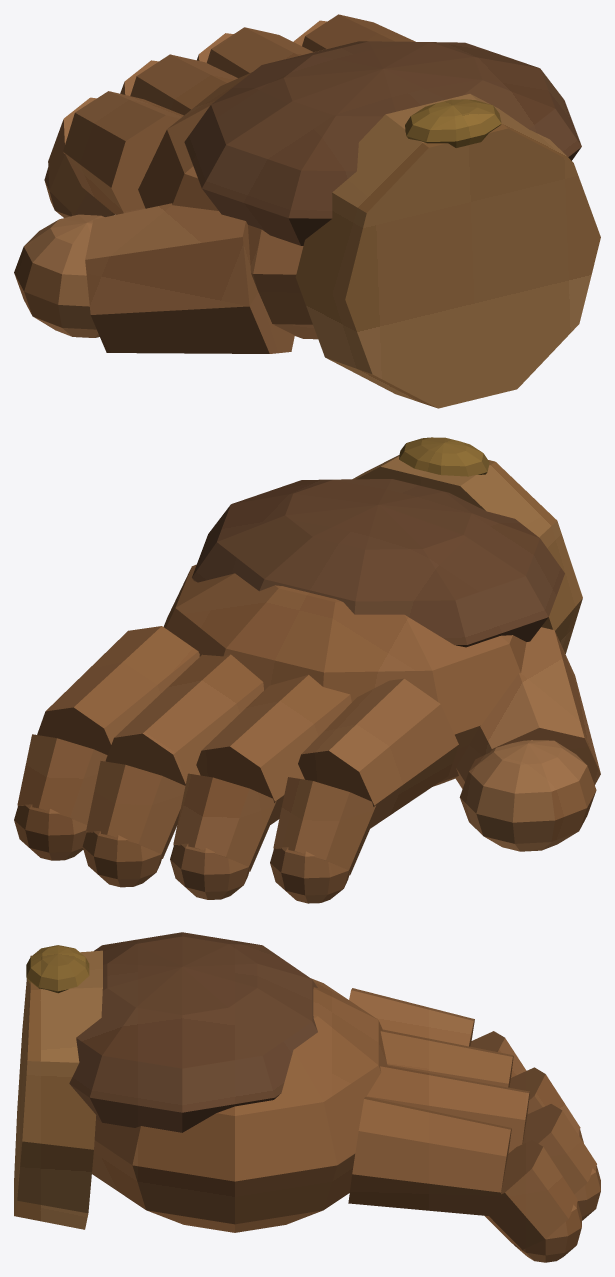
File: RightPalm-a1fdba9a8d50.glb
3 renders of one model, top to bottom at view 1: azimuth 30°, elevation 25°; view 2: azimuth 150°, elevation 25°; view 3: azimuth 270°, elevation 25°, orthographic. The views are drawn at different scales.
Visible parts, largest first — view 1: Set; view 2: Set; view 3: Set.
Boxes of the visible parts, <box> form: Set: <box>14,14,600,408</box>; Set: <box>14,437,600,903</box>; Set: <box>14,932,600,1262</box>.
Size of the model in its own units: 0.209 by 0.119 by 0.2457.
Materials: 4 (4 with a texture image).
